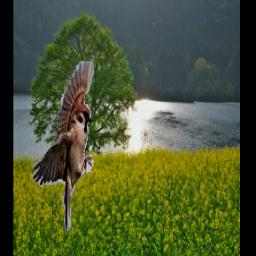Sparrow: (30, 59, 94, 233)
